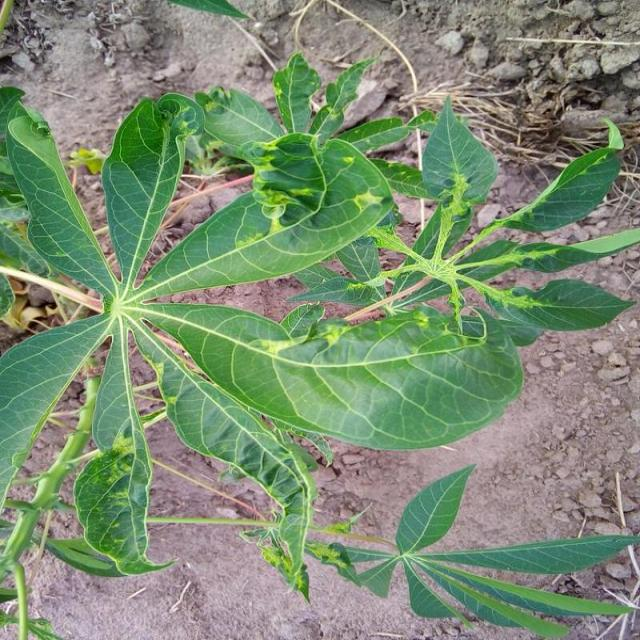cassava leaf: (1, 49, 638, 628)
